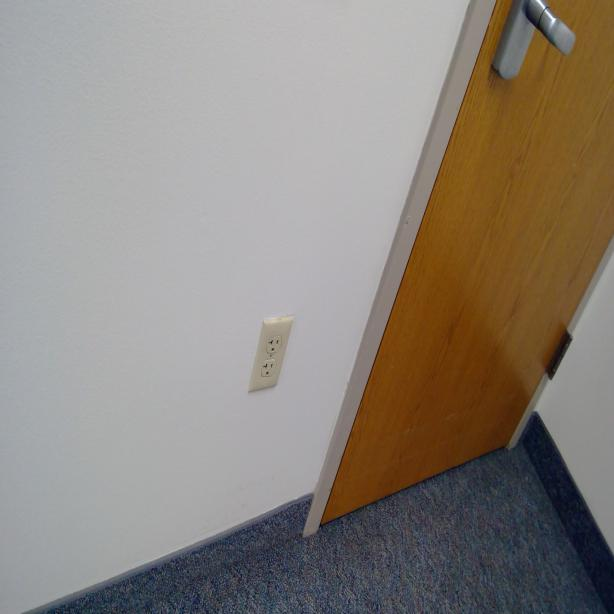typeb: (265, 337, 282, 356), (261, 359, 276, 380)
